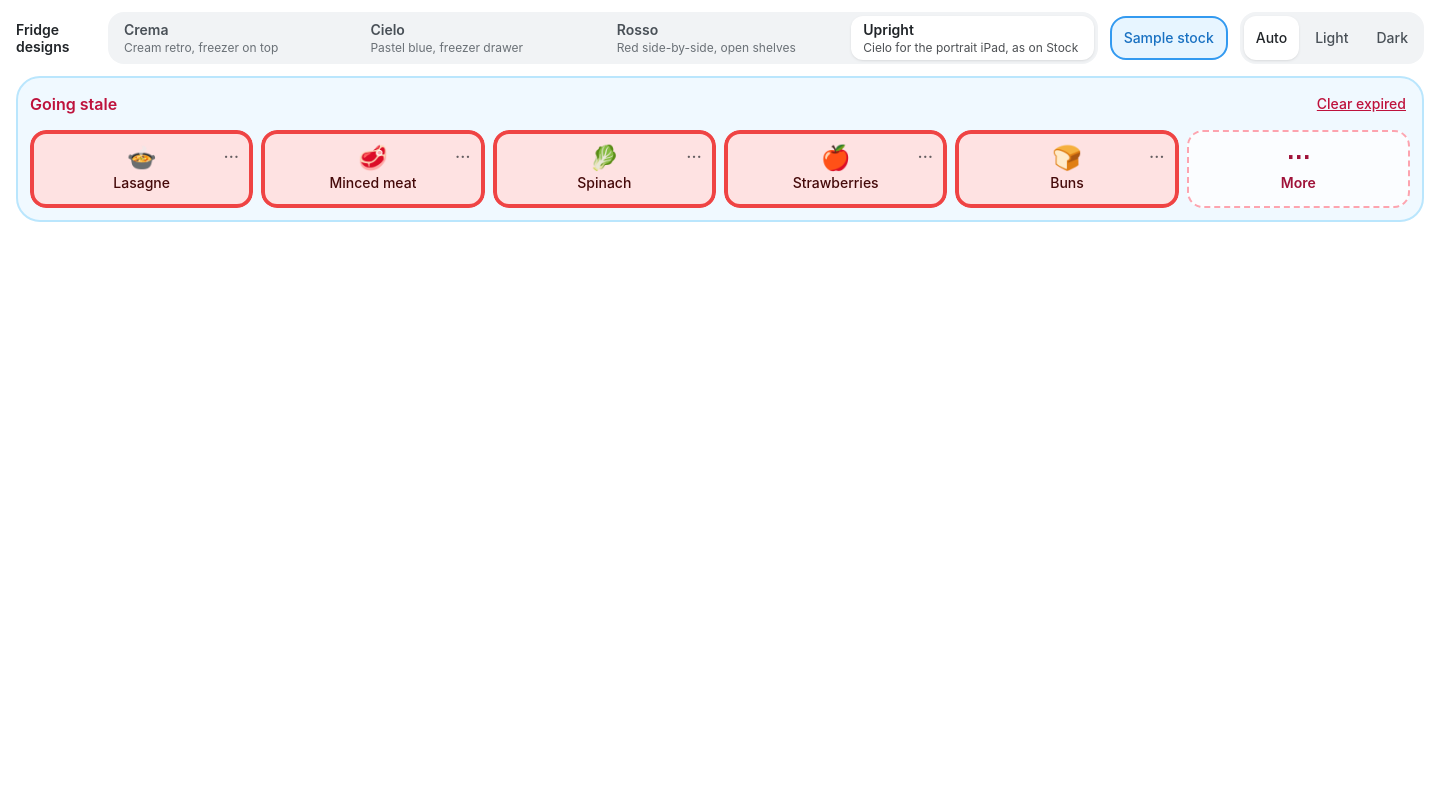
fridge mocks page › shows the production portrait fridge beside the mocks, on sample stock (Q17-B)
The width and height of the screenshot is (1440, 810).
Expected: the element with test id "fridge-cielo" is shown, left=16, top=76, right=1424, bottom=230
Click the button "Cielo Pastel blue, freezer drawer" at (480, 38), box left=358, top=16, right=601, bottom=60
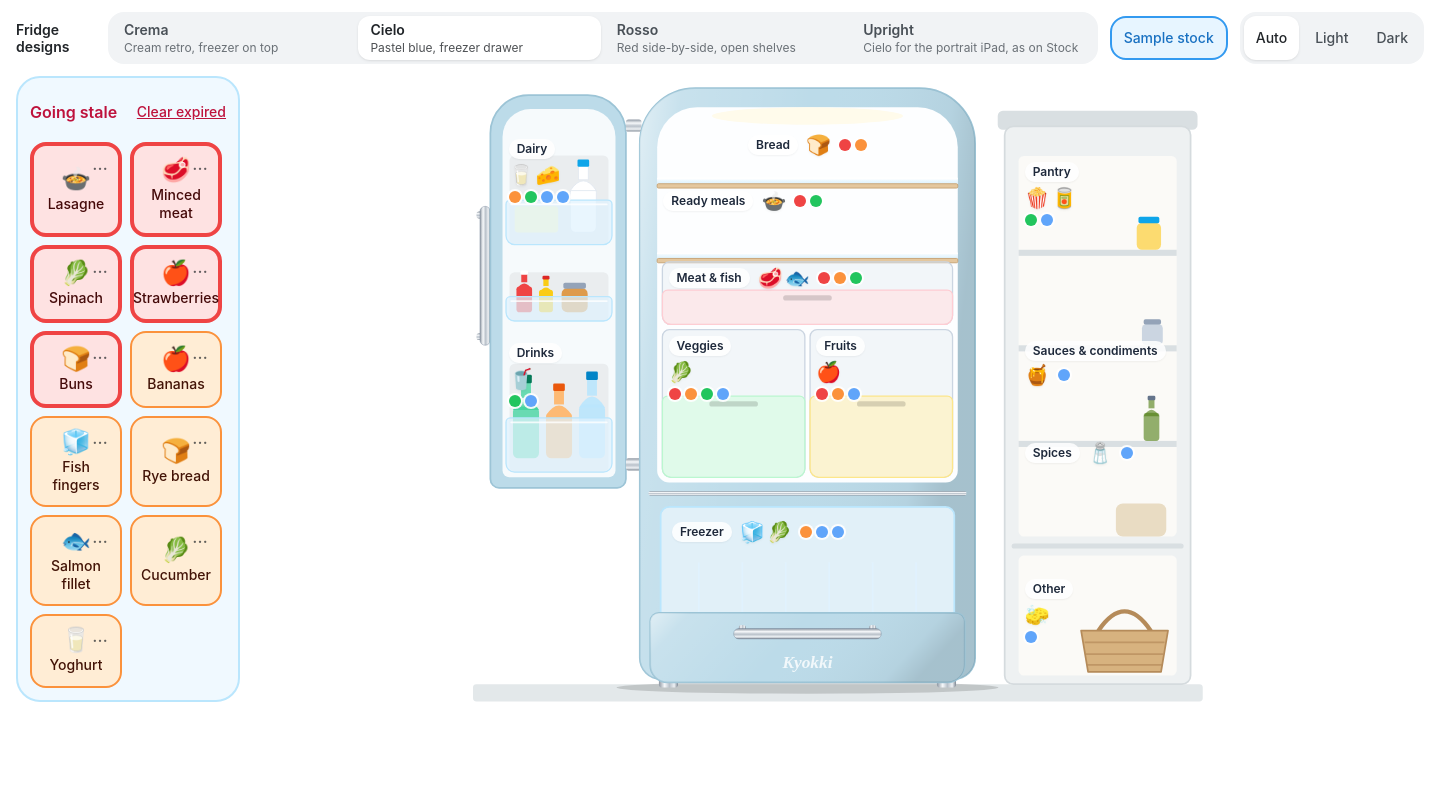
Expected: the element with test id "fridge-cielo" is gone
Expected: the element with test id "fridge-mock-cielo" is shown
